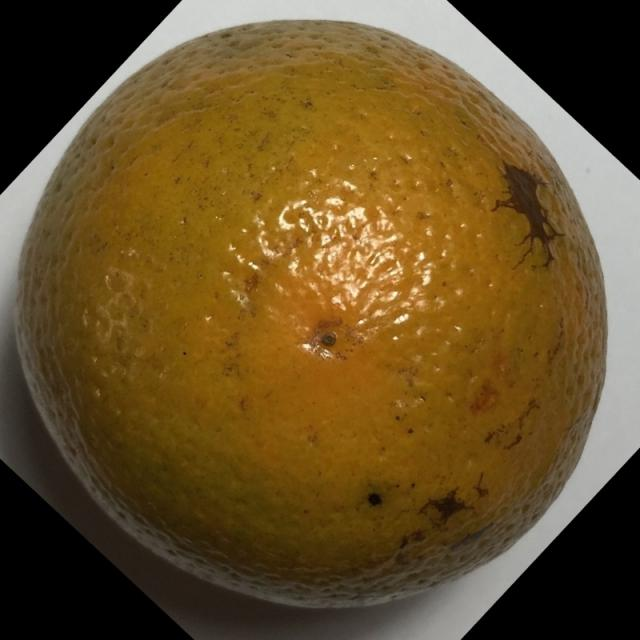canker: (20, 2, 629, 621)
